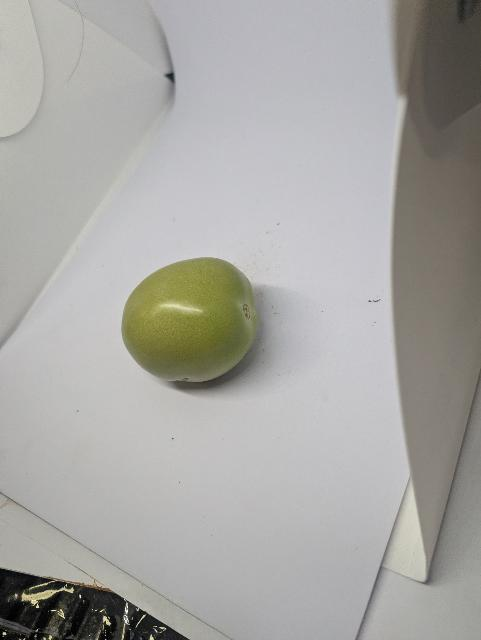green: (112, 245, 278, 400)
